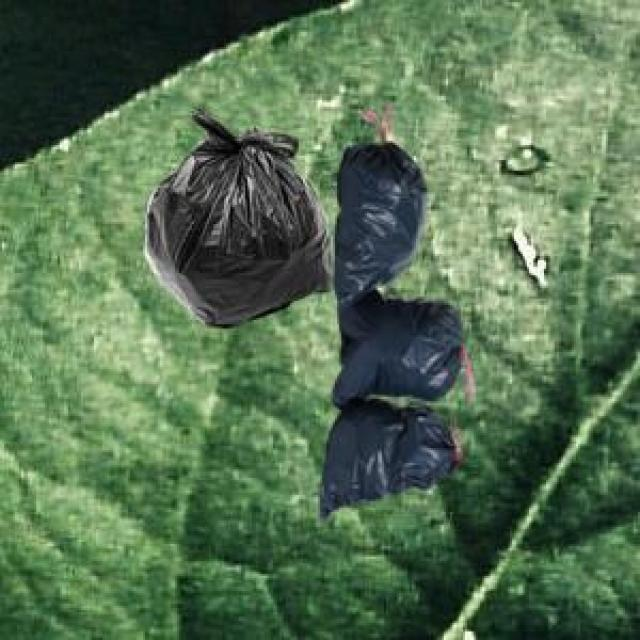miscellaneous trash: (316, 139, 472, 516), (139, 102, 329, 324)
